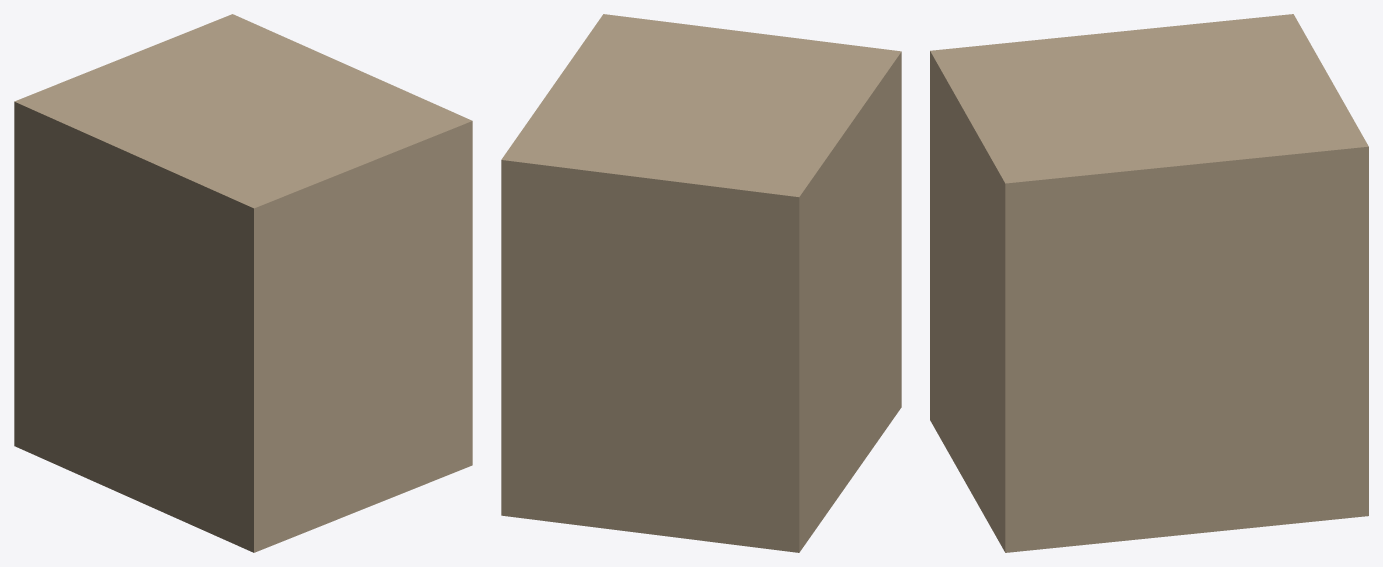
The model's file is bld_106455973.dae.
3 renders of one model, left to right at view 1: azimuth 30°, elevation 25°; view 2: azimuth 150°, elevation 25°; view 3: azimuth 270°, elevation 25°, orthographic. The views are drawn at different scales.
Visible parts, largest first — view 1: bld_106455973; view 2: bld_106455973; view 3: bld_106455973.
Boxes of the visible parts, x1,y1,x2,y2 form: bld_106455973: (14,14,472,552); bld_106455973: (501,14,901,552); bld_106455973: (930,14,1368,552).
Size of the model in its own units: 7.88 by 8.61 by 8.
